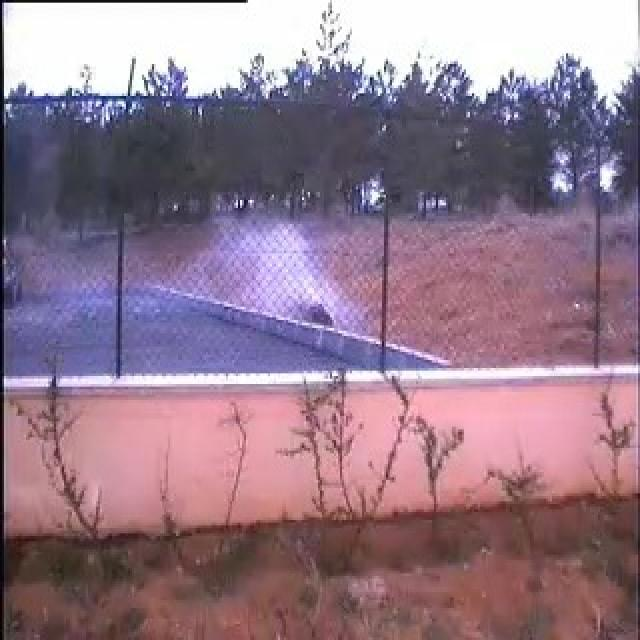smoke: (67, 208, 379, 369)
